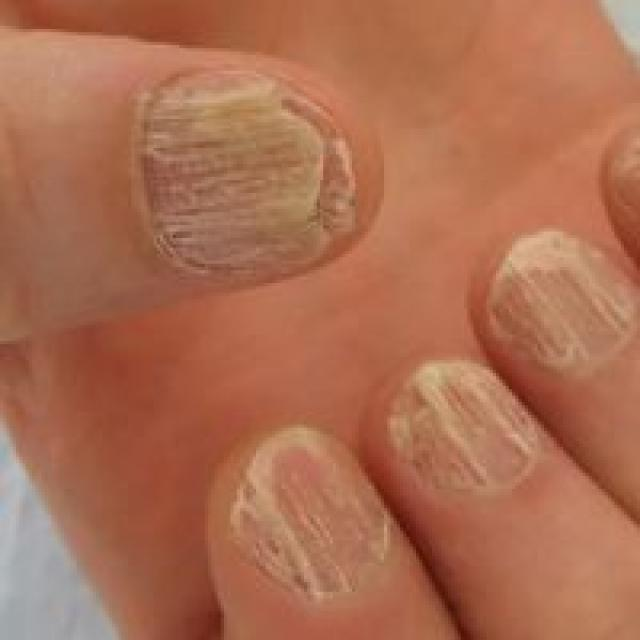diabetes: (140, 66, 354, 269), (231, 427, 391, 598), (487, 230, 640, 369), (384, 361, 537, 489)
